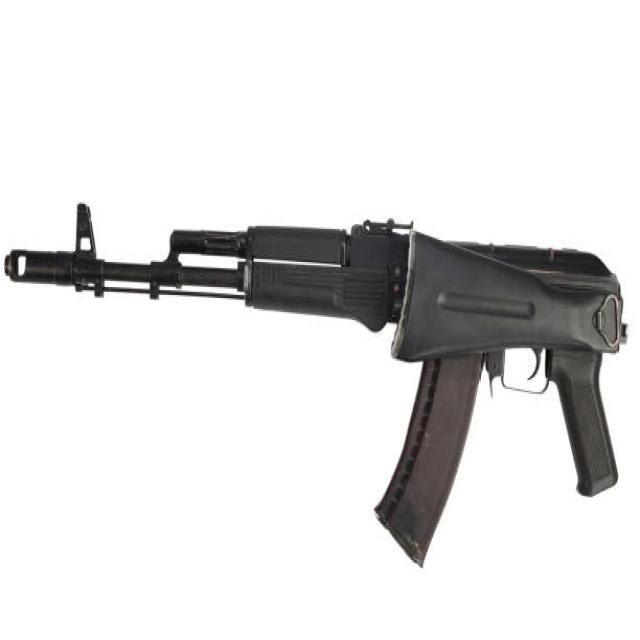rifle: (1, 189, 630, 583)
